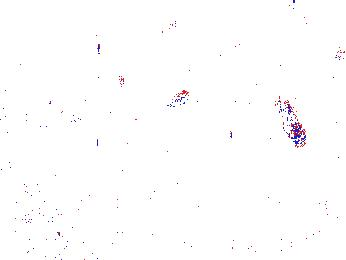X-ray fish: (273, 93, 309, 148), (129, 112, 164, 144)
red belly glassfish: (145, 17, 179, 39), (161, 88, 191, 110), (330, 47, 346, 64)
redtail glassfish: (77, 65, 129, 91)
